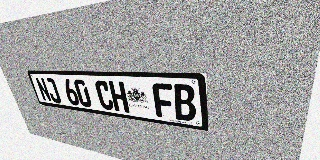0: (73, 79, 92, 108)
6: (61, 79, 80, 106)
B: (172, 84, 196, 122)
C: (94, 80, 115, 111)
F: (152, 83, 175, 119)
H: (108, 81, 130, 113)
J: (44, 78, 62, 103)
N: (35, 77, 52, 102)
